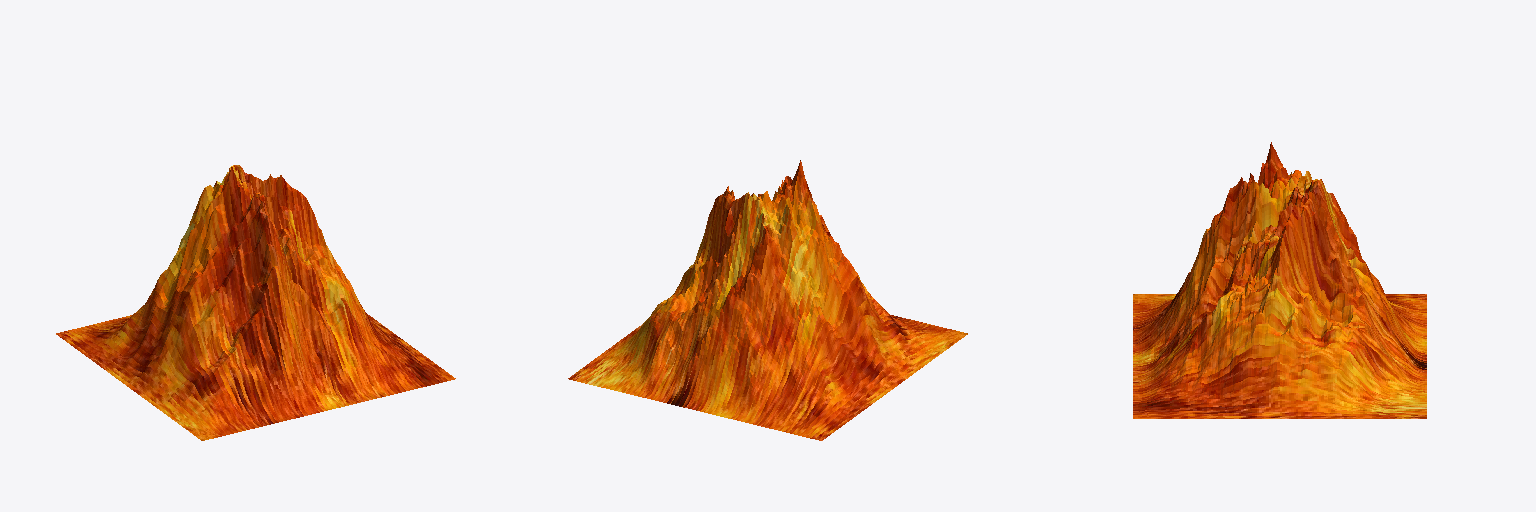
The picture shows the model from 3 angles: view 1: azimuth 30°, elevation 25°; view 2: azimuth 150°, elevation 25°; view 3: azimuth 270°, elevation 25°; orthographic projection.
Parts seen in each view (by area): view 1: Landscape; view 2: Landscape; view 3: Landscape.
Boxes of the visible parts, x1,y1,x2,y2 form: Landscape: [56, 165, 455, 440]; Landscape: [568, 160, 967, 440]; Landscape: [1133, 142, 1426, 418].
Bounding box in the file's own units: 47 × 35.44 × 47.
1 materials, 1 textured.